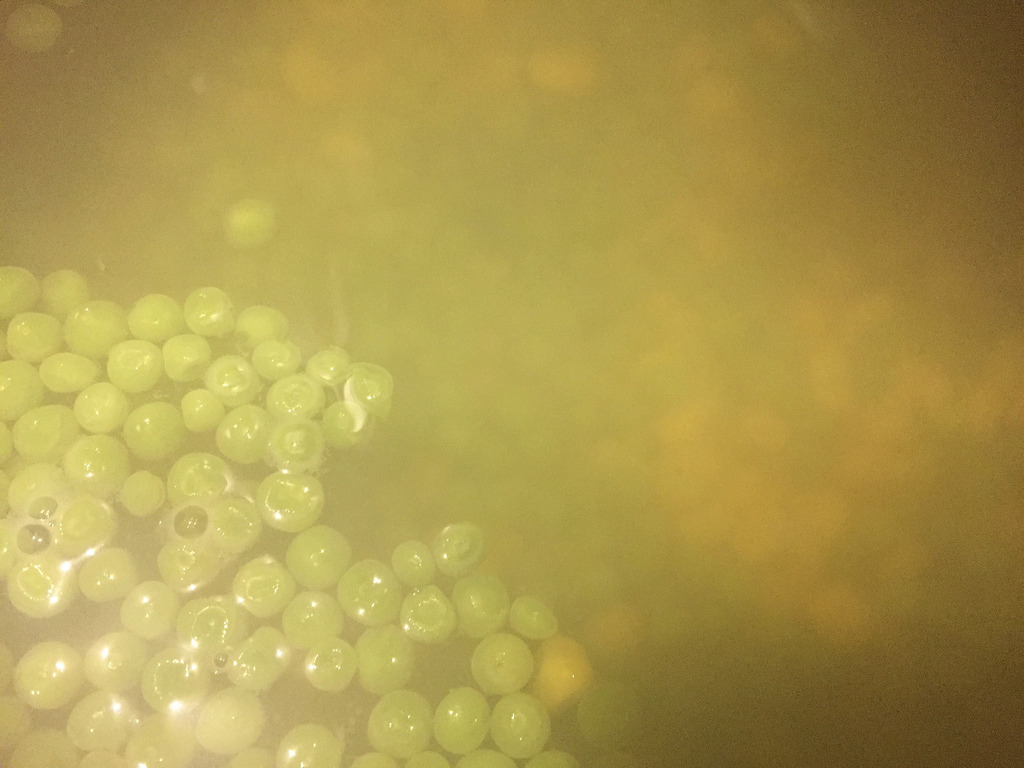boiled peas: (32, 317, 350, 714)
